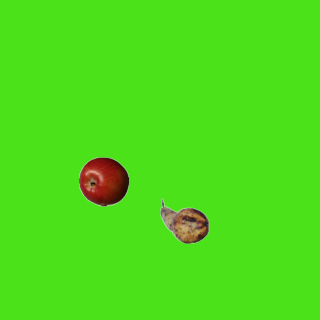Apple Braeburn: (78, 156, 128, 206)
Pear Abate: (159, 196, 209, 246)
